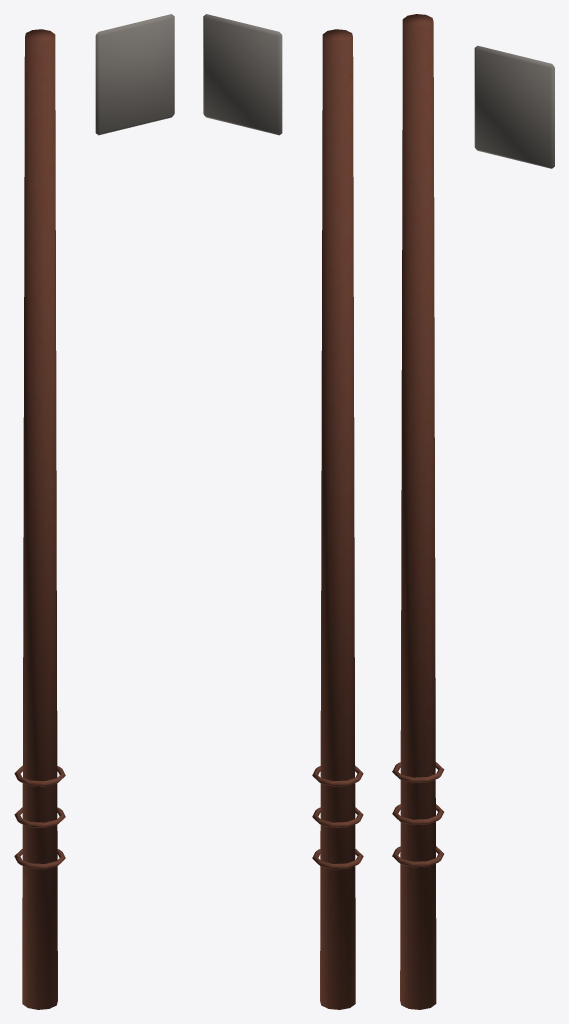
The model's file is battle_axe.fbx.
The picture shows the model from 3 angles, left to right: view 1: azimuth 30°, elevation 25°; view 2: azimuth 150°, elevation 25°; view 3: azimuth 330°, elevation 25°; orthographic projection.
Parts seen in each view (by area): view 1: battle_axe; view 2: battle_axe; view 3: battle_axe.
Part boxes in pixels (x1=…): battle_axe: x1=14, y1=14, x2=174, y2=1009; battle_axe: x1=203, y1=14, x2=363, y2=1009; battle_axe: x1=392, y1=14, x2=554, y2=1009.
Bounding box in the file's own units: 0.119 × 0.7 × 0.0323.
2 materials, 1 textured.
